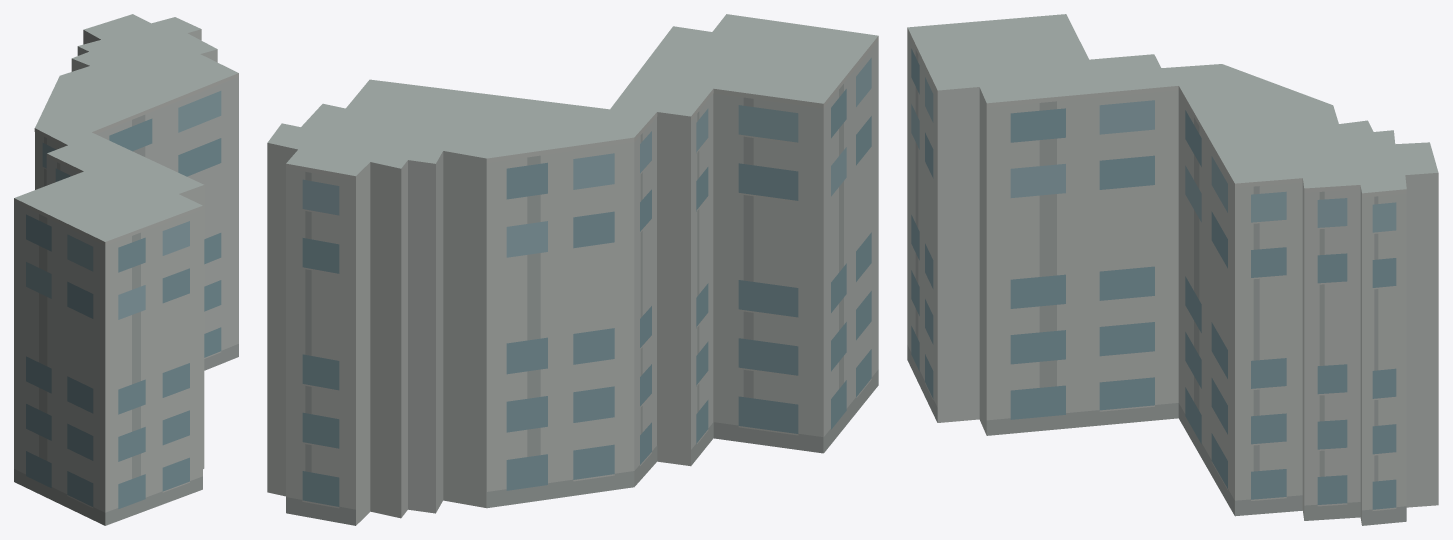
Rendered from survey-upis-32563941.glb.
3 renders of one model, left to right at view 1: azimuth 30°, elevation 25°; view 2: azimuth 150°, elevation 25°; view 3: azimuth 270°, elevation 25°, orthographic. The views are drawn at different scales.
Parts seen in each view (by area): view 1: survey-upis-32563941.tmp; view 2: survey-upis-32563941.tmp; view 3: survey-upis-32563941.tmp.
Part boxes in pixels (<box>): survey-upis-32563941.tmp: <box>14,14,238,525</box>; survey-upis-32563941.tmp: <box>267,14,878,525</box>; survey-upis-32563941.tmp: <box>907,14,1438,525</box>.
Size of the model in its own units: 21 by 18.15 by 26.28.
